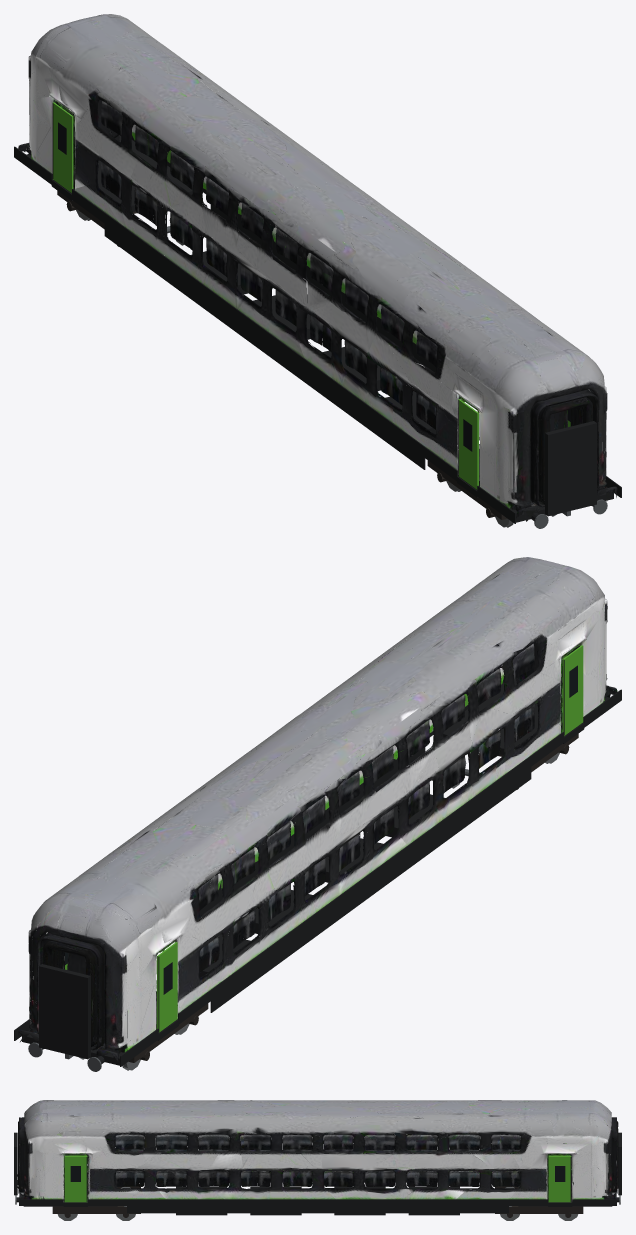
3 views of the same model, one above another, from view 1: azimuth 30°, elevation 25°; view 2: azimuth 150°, elevation 25°; view 3: azimuth 270°, elevation 25° (orthographic). The views are drawn at different scales.
Visible parts, largest first — view 1: ed_kori, ed_helma-1, ed_palje-1, Door_L3_p102, Door_L1_m102, ed_helma1, ed_frame1; view 2: ed_kori, ed_helma-1, ed_palje1, Door_L1_m102, Door_L3_p102, ed_helma1, ed_frame-1; view 3: ed_kori, ed_helma1, Door_R2_m102, Door_R4_p102, Bogie_F_side1, Bogie_R_side1, ed_helmap1110.9, ed_helmap-1110.9, ed_helmap118.2, ed_helmap-118.2, ed_box-1.8, ed_box-5.0 (+4 smaller).
Part boxes in pixels (left/top/right/bottom): ed_kori: left=18, top=14, right=617, bottom=521; ed_helma-1: left=104, top=213, right=425, bottom=469; ed_palje-1: left=545, top=421, right=596, bottom=516; Door_L3_p102: left=53, top=102, right=73, bottom=192; Door_L1_m102: left=458, top=399, right=478, bottom=489; ed_helma1: left=210, top=204, right=513, bottom=431; ed_frame1: left=26, top=135, right=192, bottom=211; ed_kori: left=18, top=557, right=617, bottom=1061; ed_helma-1: left=210, top=756, right=531, bottom=1012; ed_palje1: left=39, top=964, right=90, bottom=1059; Door_L1_m102: left=562, top=645, right=583, bottom=735; Door_L3_p102: left=157, top=942, right=177, bottom=1032; ed_helma1: left=139, top=747, right=425, bottom=957; ed_frame-1: left=443, top=678, right=609, bottom=754; ed_kori: left=17, top=1100, right=618, bottom=1202; ed_helma1: left=127, top=1199, right=508, bottom=1213; Door_R2_m102: left=64, top=1156, right=87, bottom=1202; Door_R4_p102: left=548, top=1156, right=571, bottom=1202; Bogie_F_side1: left=52, top=1206, right=140, bottom=1213; Bogie_R_side1: left=495, top=1206, right=583, bottom=1213; ed_helmap1110.9: left=572, top=1199, right=616, bottom=1205; ed_helmap-1110.9: left=19, top=1199, right=63, bottom=1205; ed_helmap118.2: left=509, top=1199, right=547, bottom=1205; ed_helmap-118.2: left=88, top=1199, right=126, bottom=1205; ed_box-1.8: left=250, top=1186, right=301, bottom=1215; ed_box-5.0: left=176, top=1186, right=227, bottom=1215.
Size of the model in its own units: 3.18 by 5.05 by 26.12.
7 materials, 1 textured.
